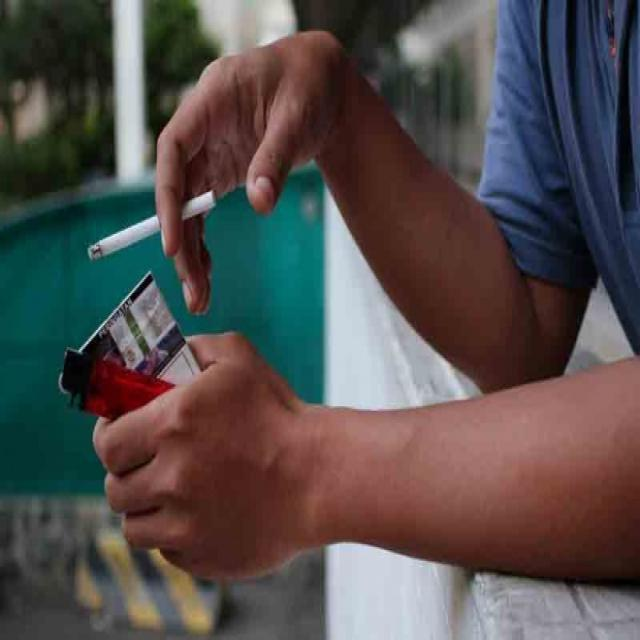rokok: (88, 188, 222, 264)
